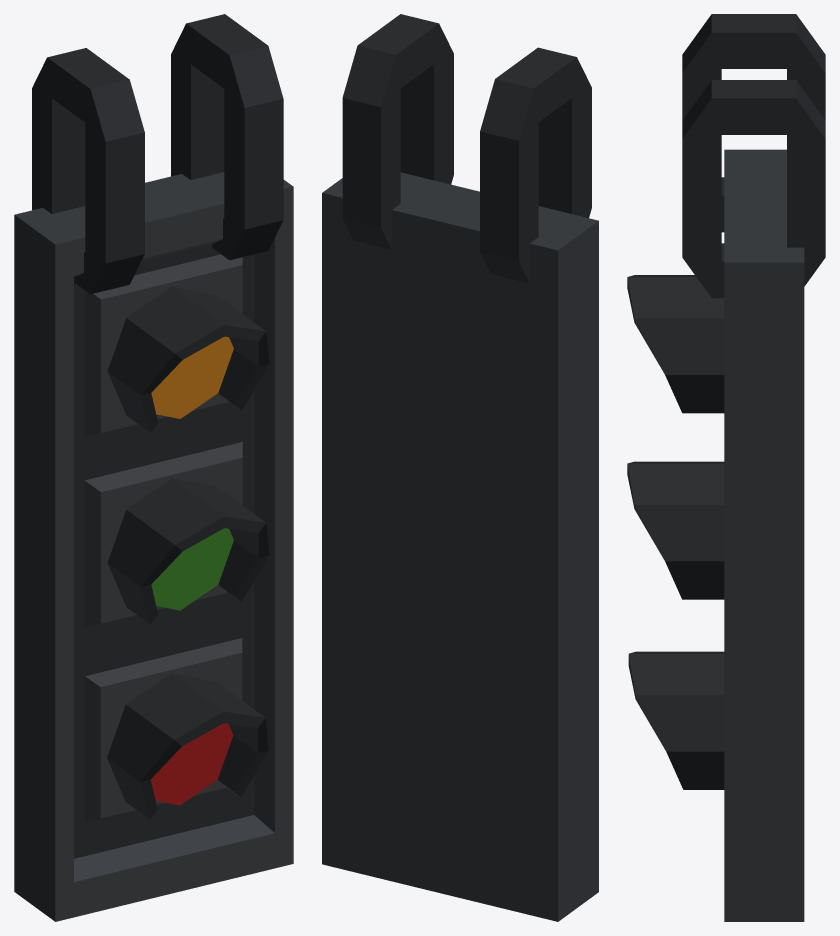
Rendered from start_light.glb.
3 views of the same model, side by side, from view 1: azimuth 30°, elevation 25°; view 2: azimuth 150°, elevation 25°; view 3: azimuth 270°, elevation 25° (orthographic). The views are drawn at different scales.
Visible parts, largest first — view 1: SM_Prop_Trafficlight_01; view 2: SM_Prop_Trafficlight_01; view 3: SM_Prop_Trafficlight_01.
Part boxes in pixels (bbox=[...]): SM_Prop_Trafficlight_01: bbox=[14, 14, 293, 921]; SM_Prop_Trafficlight_01: bbox=[322, 14, 598, 921]; SM_Prop_Trafficlight_01: bbox=[627, 14, 825, 921].
Bounding box in the file's own units: 0.4449 × 1.48 × 0.3296.
Materials: 1 (1 with a texture image).
